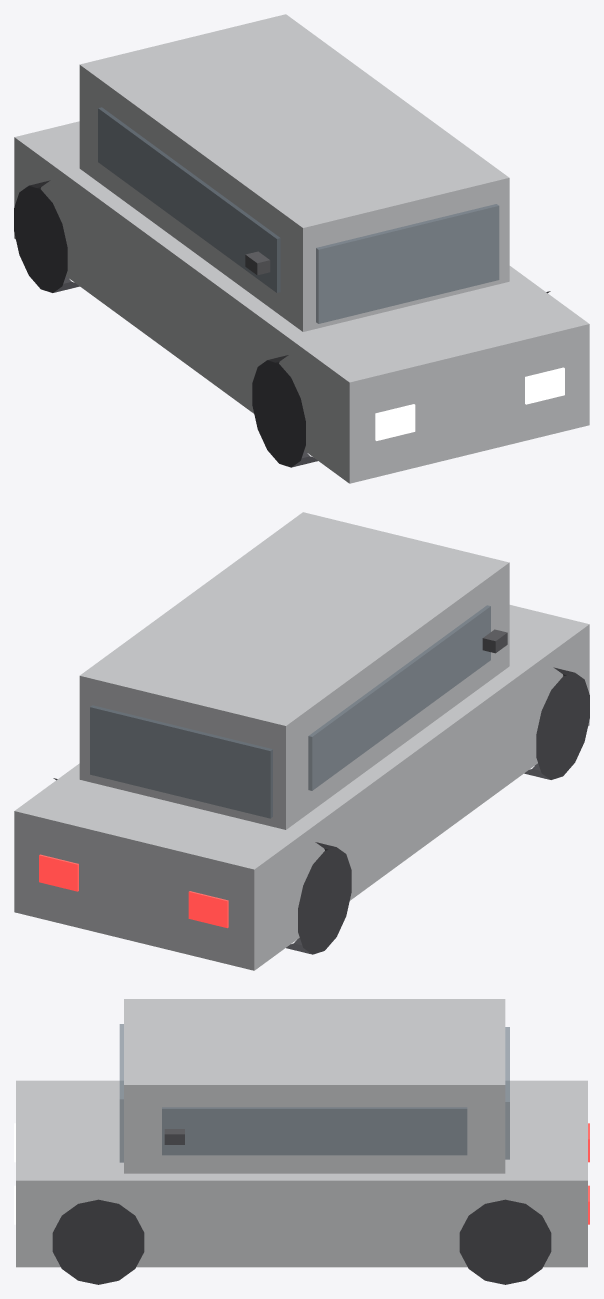
Rendered from suv.glb.
3 views of the same model, one above another, from view 1: azimuth 30°, elevation 25°; view 2: azimuth 150°, elevation 25°; view 3: azimuth 270°, elevation 25° (orthographic). The views are drawn at different scales.
Parts seen in each view (by area): view 1: suv; view 2: suv; view 3: suv.
Part boxes in pixels (<box>): suv: <box>14,14,589,483</box>; suv: <box>14,512,589,970</box>; suv: <box>14,999,589,1284</box>.
Bounding box in the file's own units: 2.2 × 1.6 × 4.53.
